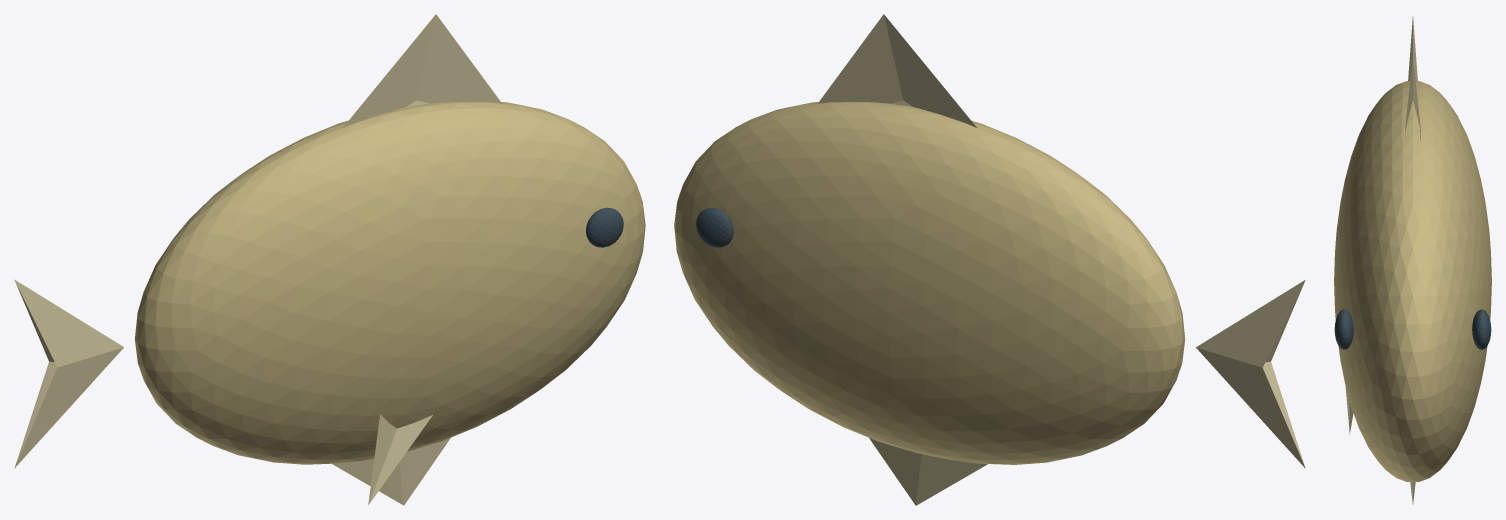
The model's file is Ikan_Bawal_Emas.glb.
3 renders of one model, left to right at view 1: azimuth 30°, elevation 25°; view 2: azimuth 150°, elevation 25°; view 3: azimuth 270°, elevation 25°, orthographic. The views are drawn at different scales.
Visible parts, largest first — view 1: Part_00, Part_01, Part_02, Part_03, Part_04, Part_05; view 2: Part_00, Part_01, Part_02, Part_03, Part_06; view 3: Part_00, Part_05, Part_06, Part_02, Part_01.
Part boxes in pixels (left/top/right/bottom): Part_00: left=135, top=102, right=645, bottom=464; Part_01: left=14, top=279, right=123, bottom=468; Part_02: left=343, top=14, right=502, bottom=127; Part_03: left=332, top=437, right=450, bottom=505; Part_04: left=368, top=414, right=432, bottom=505; Part_05: left=586, top=207, right=623, bottom=247; Part_00: left=674, top=102, right=1185, bottom=464; Part_01: left=1196, top=280, right=1305, bottom=468; Part_02: left=817, top=14, right=976, bottom=127; Part_03: left=869, top=438, right=987, bottom=505; Part_06: left=696, top=208, right=733, bottom=247; Part_00: left=1334, top=81, right=1491, bottom=481; Part_05: left=1334, top=309, right=1353, bottom=349; Part_06: left=1472, top=309, right=1491, bottom=349; Part_02: left=1405, top=57, right=1420, bottom=140; Part_01: left=1408, top=16, right=1417, bottom=80.
Bounding box in the file's own units: 1.3 × 0.9581 × 0.2948.
